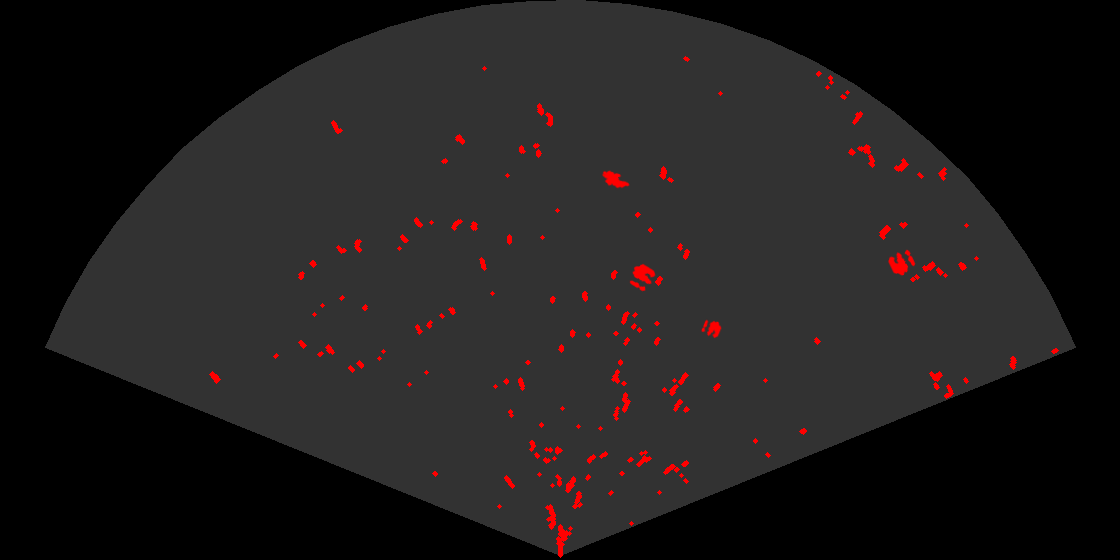AUV: (600, 169, 631, 191)
ball: (628, 262, 657, 293), (887, 248, 917, 277), (700, 318, 723, 340)
